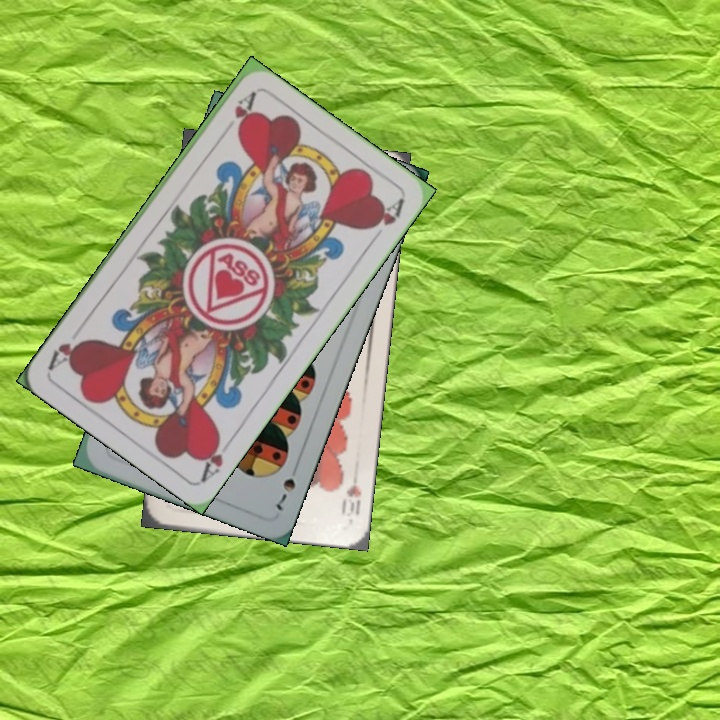H10: (337, 481, 364, 520)
HA: (217, 88, 259, 140), (197, 432, 237, 484)
S7: (272, 473, 299, 514)
